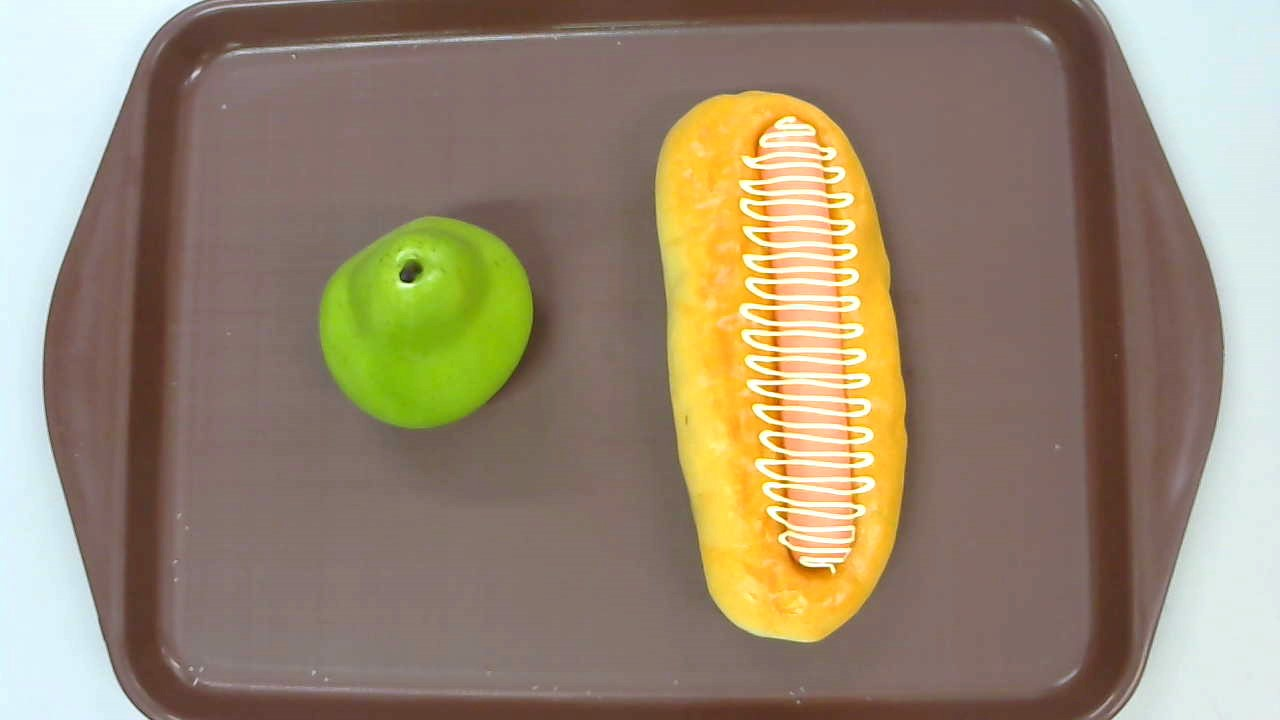green pear: (316, 216, 535, 432)
hot dog: (653, 90, 909, 641)
